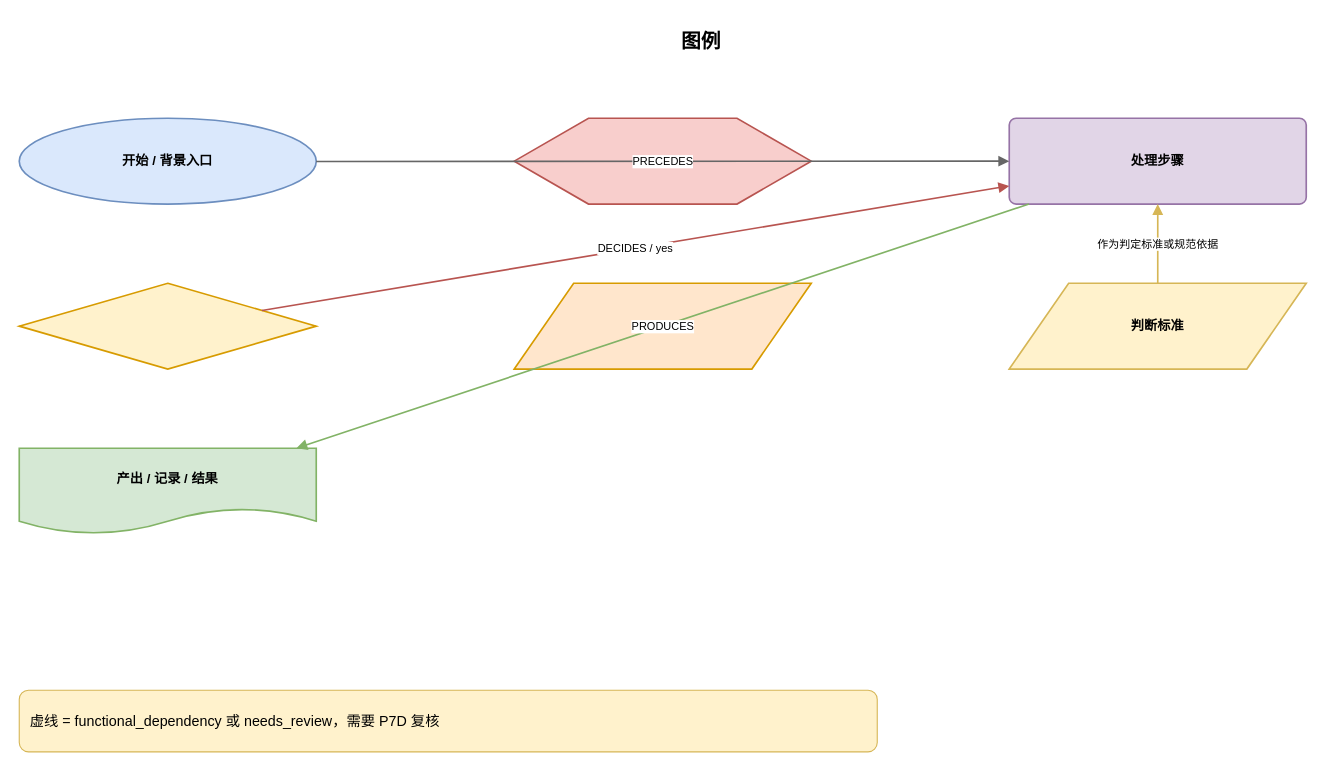
The diagram is 1327 pixels wide and 771 high, and some of its shapes have lost their labels. The centre of each missing label's shape, as x and y in pixels:
"判断条件" goes at [167,325].
"触发条件 / 情境入口" goes at [662,160].
"输入材料" goes at [662,325].
